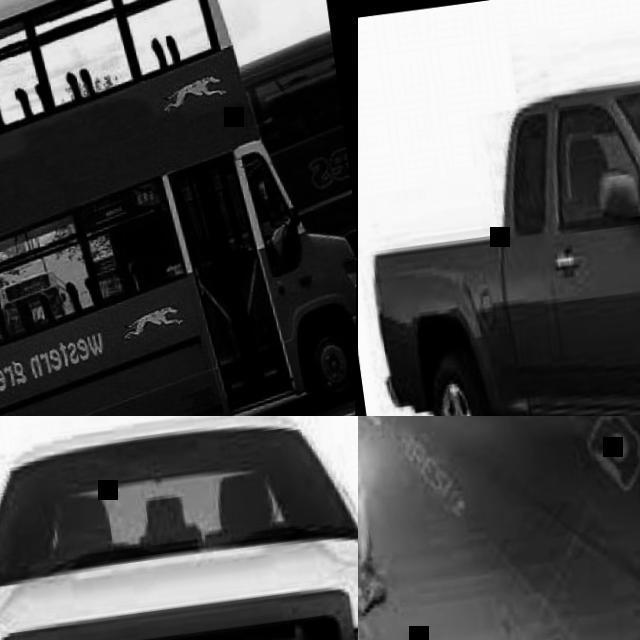car: (2, 0, 350, 413), (362, 6, 639, 418)
